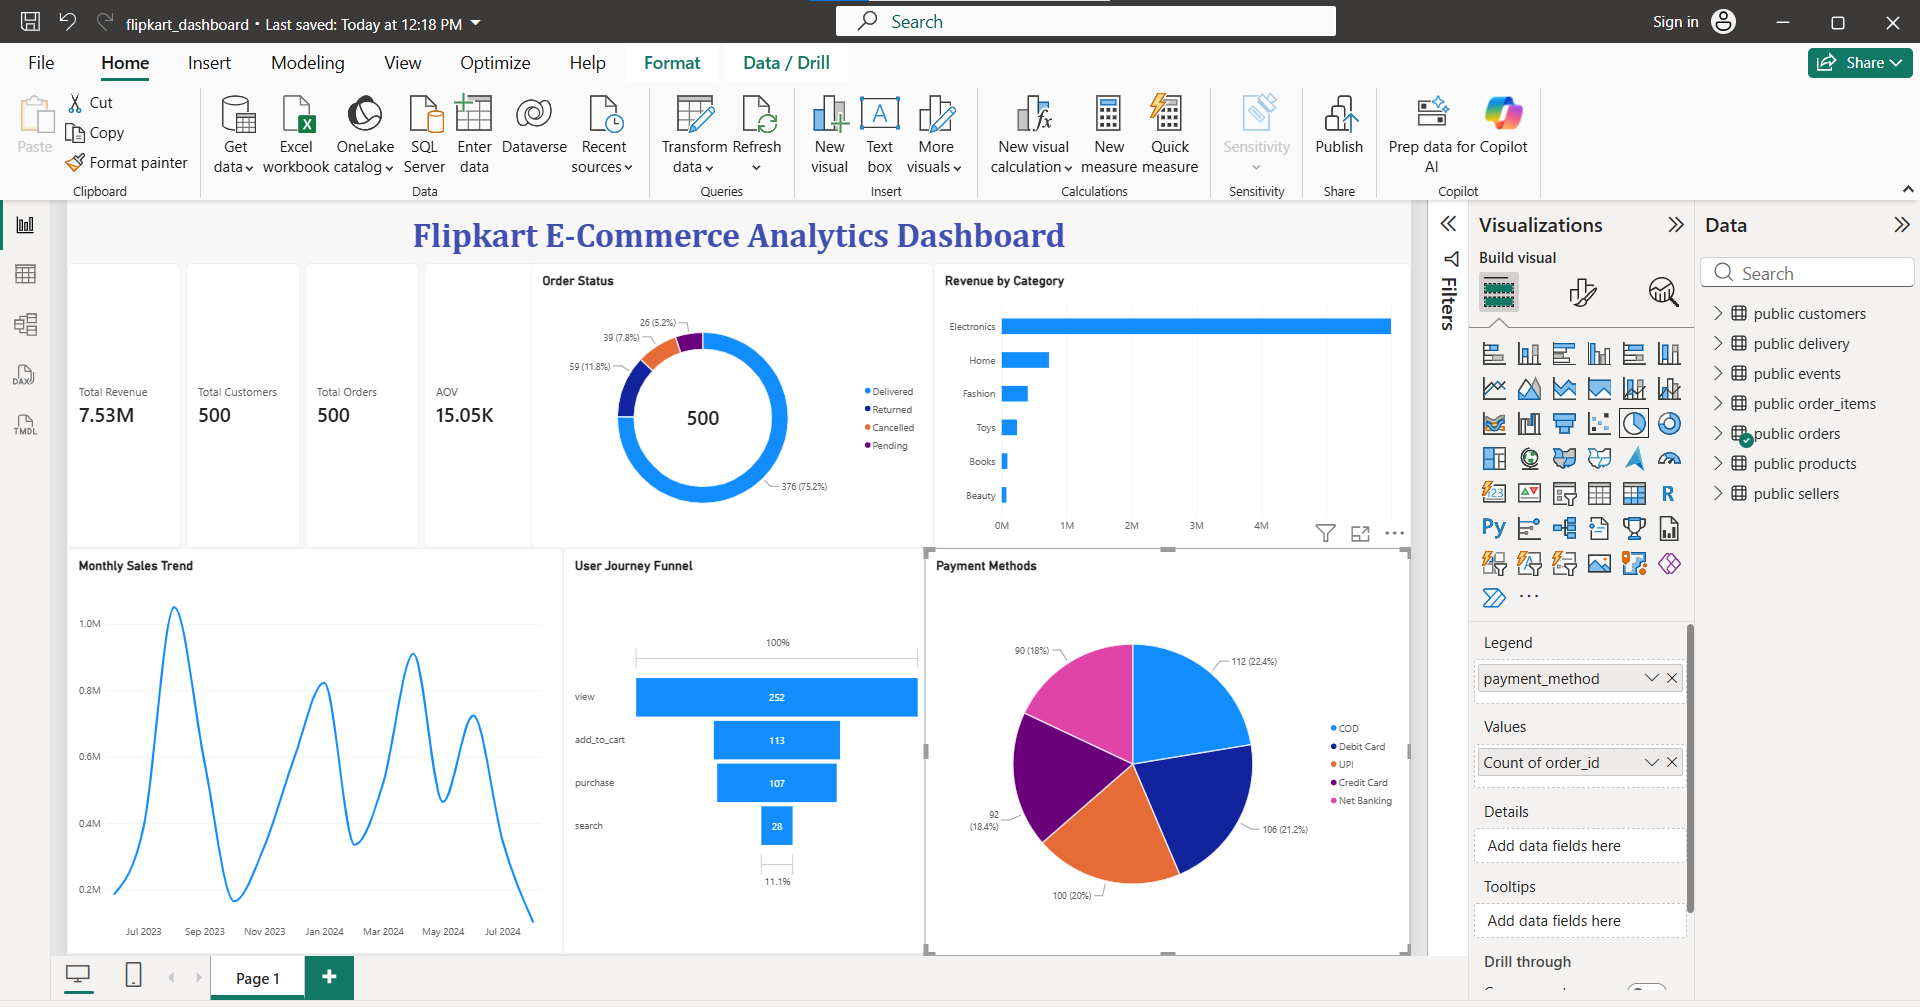

The dashboard page shown, as its layout file describes it:
{"tool":"powerbi","page":{"name":"Page 1","canvas":[1920,1080],"ordinal":0},"visuals":[{"type":"cardVisual","fields":{"Data":["public order_items.Total Revenue","public order_items.Total Customers","public order_items.Total Orders","public order_items.AOV"]},"box":[0,92.9,675,407.1],"z":0},{"type":"lineChart","title":"Monthly Sales Trend","fields":{"Category":["public orders.order_date.Variation.Date Hierarchy.Year","public orders.order_date.Variation.Date Hierarchy.Month"],"Y":["public order_items.Total Revenue"]},"box":[0,500,708.9,580.4],"z":1000},{"type":"clusteredBarChart","title":"Revenue by Category","fields":{"Category":["public products.category"],"Y":["public order_items.Total Revenue"]},"box":[1237.5,92.9,682.1,407.1],"z":2000},{"type":"pieChart","title":"Payment Methods","fields":{"Category":["public orders.payment_method"],"Y":["CountNonNull(public orders.order_id)"]},"box":[1225,500,694.6,582.1],"z":3000},{"type":"donutChart","title":"Order Status","fields":{"Category":["public orders.order_status"],"Y":["CountNonNull(public orders.order_id)"]},"box":[662.5,92.9,575,407.1],"z":4000},{"type":"funnel","title":"User Journey Funnel","fields":{"Category":["public events.event_type"],"Y":["CountNonNull(public events.event_id)"]},"box":[708.9,500,528.6,580.4],"z":4001},{"type":"textbox","box":[0,25,1919.7,67.9],"z":4002}]}

Visuals, with their boxes on the page's 1920x1080 design canvas (x1, y1, x2, y2). These are canvas units, not pixel positions in the 1920x1007 screenshot, which may show the page scaled, cropped or inside an application window:
cardVisual - public order_items.Total Revenue x public order_items.Total Customers: (x1=0, y1=93, x2=675, y2=500)
"Monthly Sales Trend" lineChart: (x1=0, y1=500, x2=709, y2=1080)
"Revenue by Category" clusteredBarChart: (x1=1238, y1=93, x2=1920, y2=500)
"Payment Methods" pieChart: (x1=1225, y1=500, x2=1920, y2=1082)
"Order Status" donutChart: (x1=662, y1=93, x2=1238, y2=500)
"User Journey Funnel" funnel: (x1=709, y1=500, x2=1238, y2=1080)
textbox: (x1=0, y1=25, x2=1920, y2=93)
